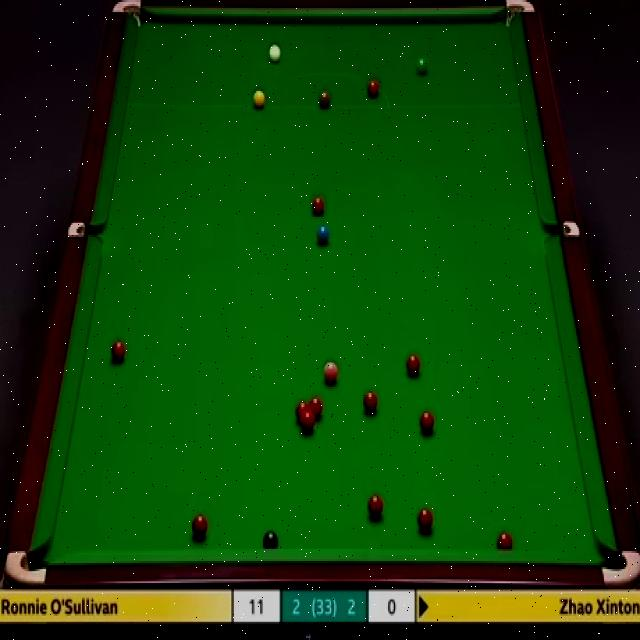black-ball: (261, 528, 278, 548)
blue-ball: (315, 224, 331, 246)
brown-ball: (318, 86, 331, 108)
green-ball: (413, 55, 428, 77)
pink-ball: (323, 362, 339, 386)
red-ball: (419, 409, 436, 437), (366, 494, 384, 519), (363, 388, 379, 414), (190, 515, 207, 539), (111, 340, 125, 367), (418, 510, 435, 532), (495, 532, 515, 550), (309, 396, 323, 421), (295, 401, 309, 426), (301, 414, 316, 434), (365, 78, 380, 98), (311, 197, 326, 216), (406, 354, 420, 374)
white-ball: (267, 42, 282, 64)
yellow-ball: (252, 90, 266, 108)
